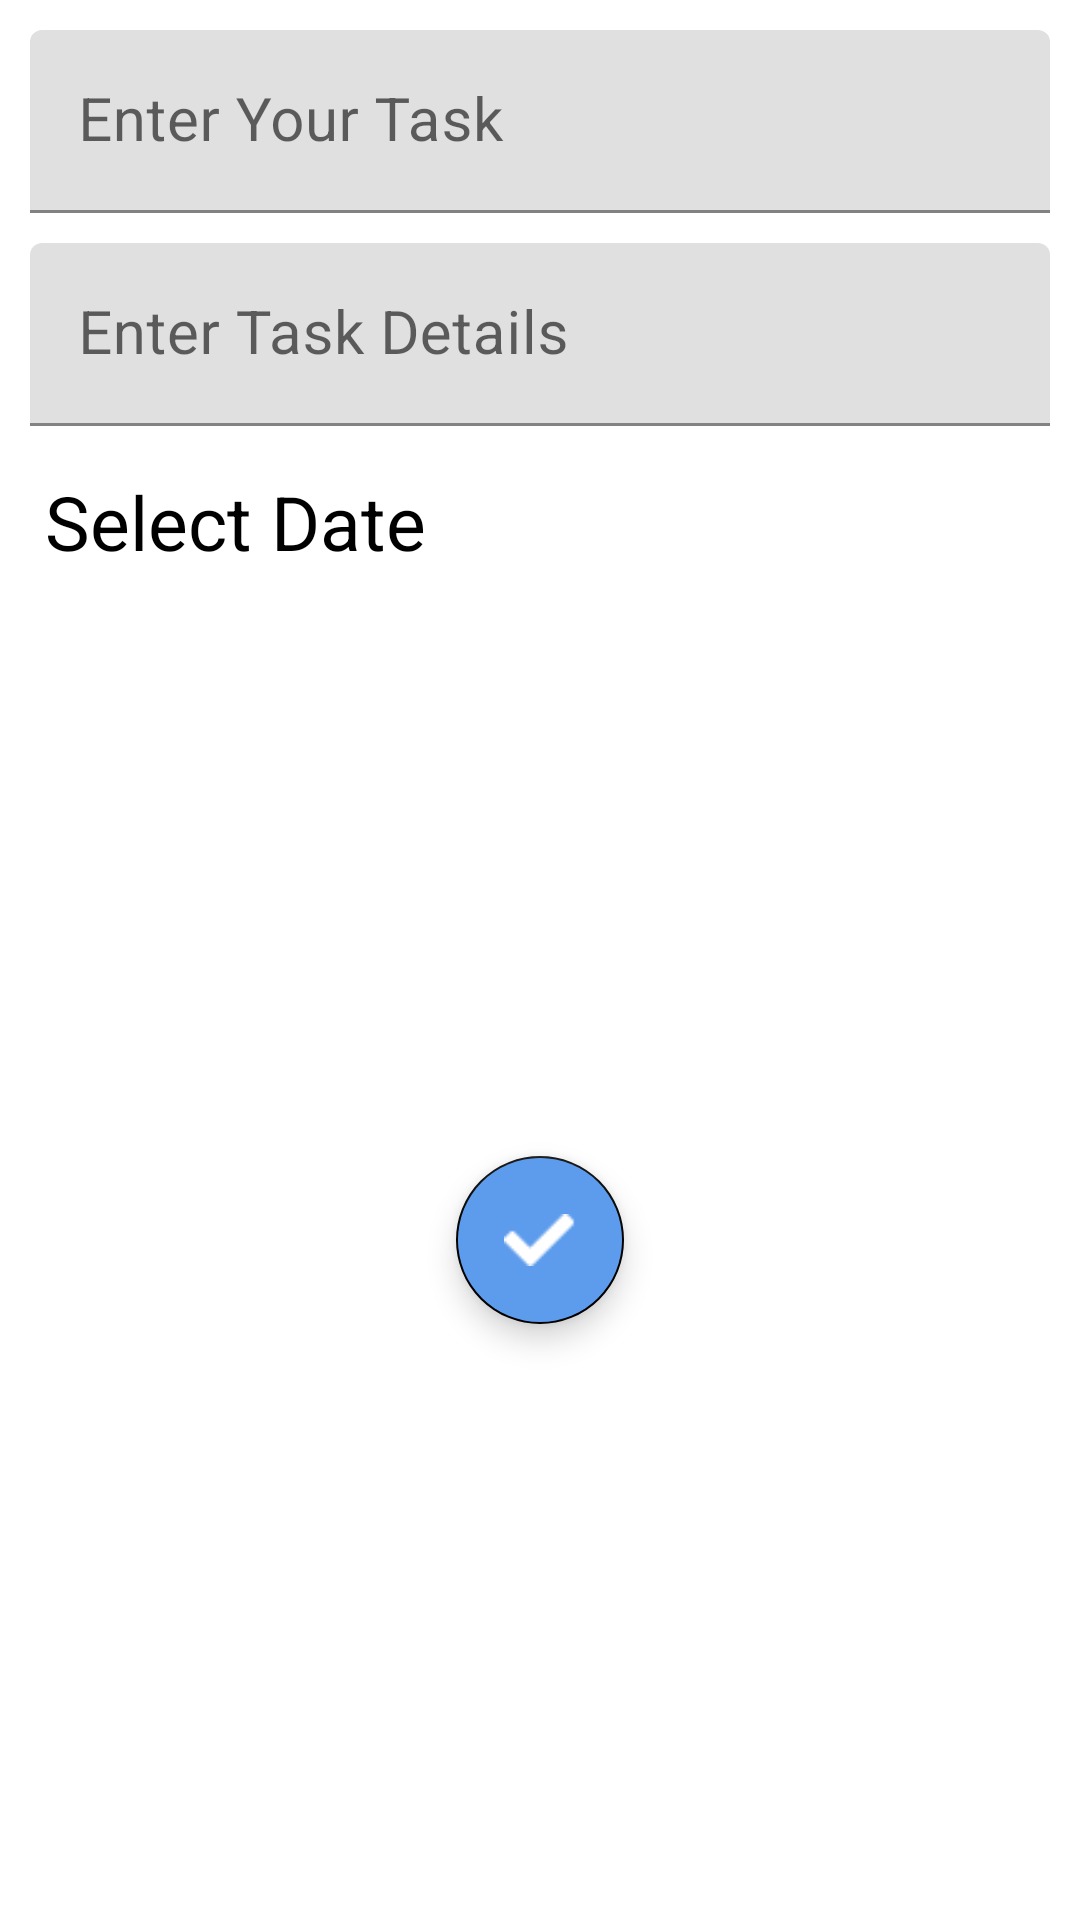

Icon bounding boxes for this 1080*1920 phone screenshot, format BBox(x1, y1, x2, y2):
check: BBox(456, 1156, 624, 1324)
